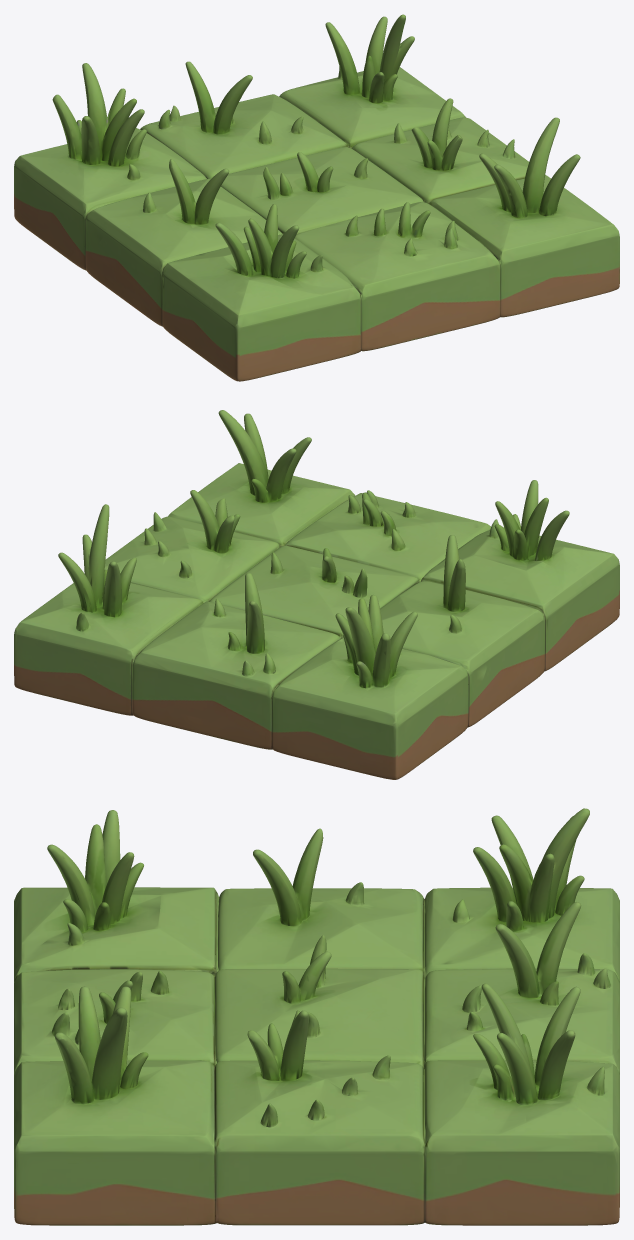
File: grass.glb
The picture shows the model from 3 angles, top to bottom: view 1: azimuth 30°, elevation 25°; view 2: azimuth 150°, elevation 25°; view 3: azimuth 270°, elevation 25°; orthographic projection. The views are drawn at different scales.
Visible parts, largest first — view 1: Mesh_0; view 2: Mesh_0; view 3: Mesh_0.
Part boxes in pixels (bbox=[...]): Mesh_0: bbox=[14, 14, 619, 381]; Mesh_0: bbox=[14, 410, 619, 779]; Mesh_0: bbox=[14, 808, 619, 1225].
Size of the model in its own units: 0.8209 by 0.3242 by 0.8301.
Materials: 1 (1 with a texture image).
